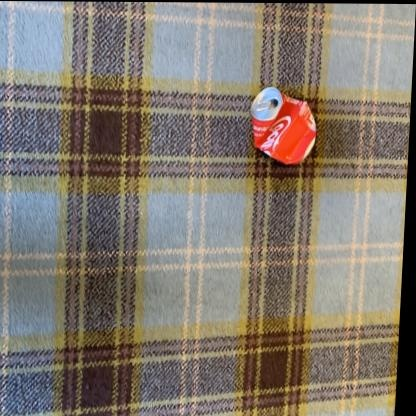trash: (251, 87, 315, 164)
